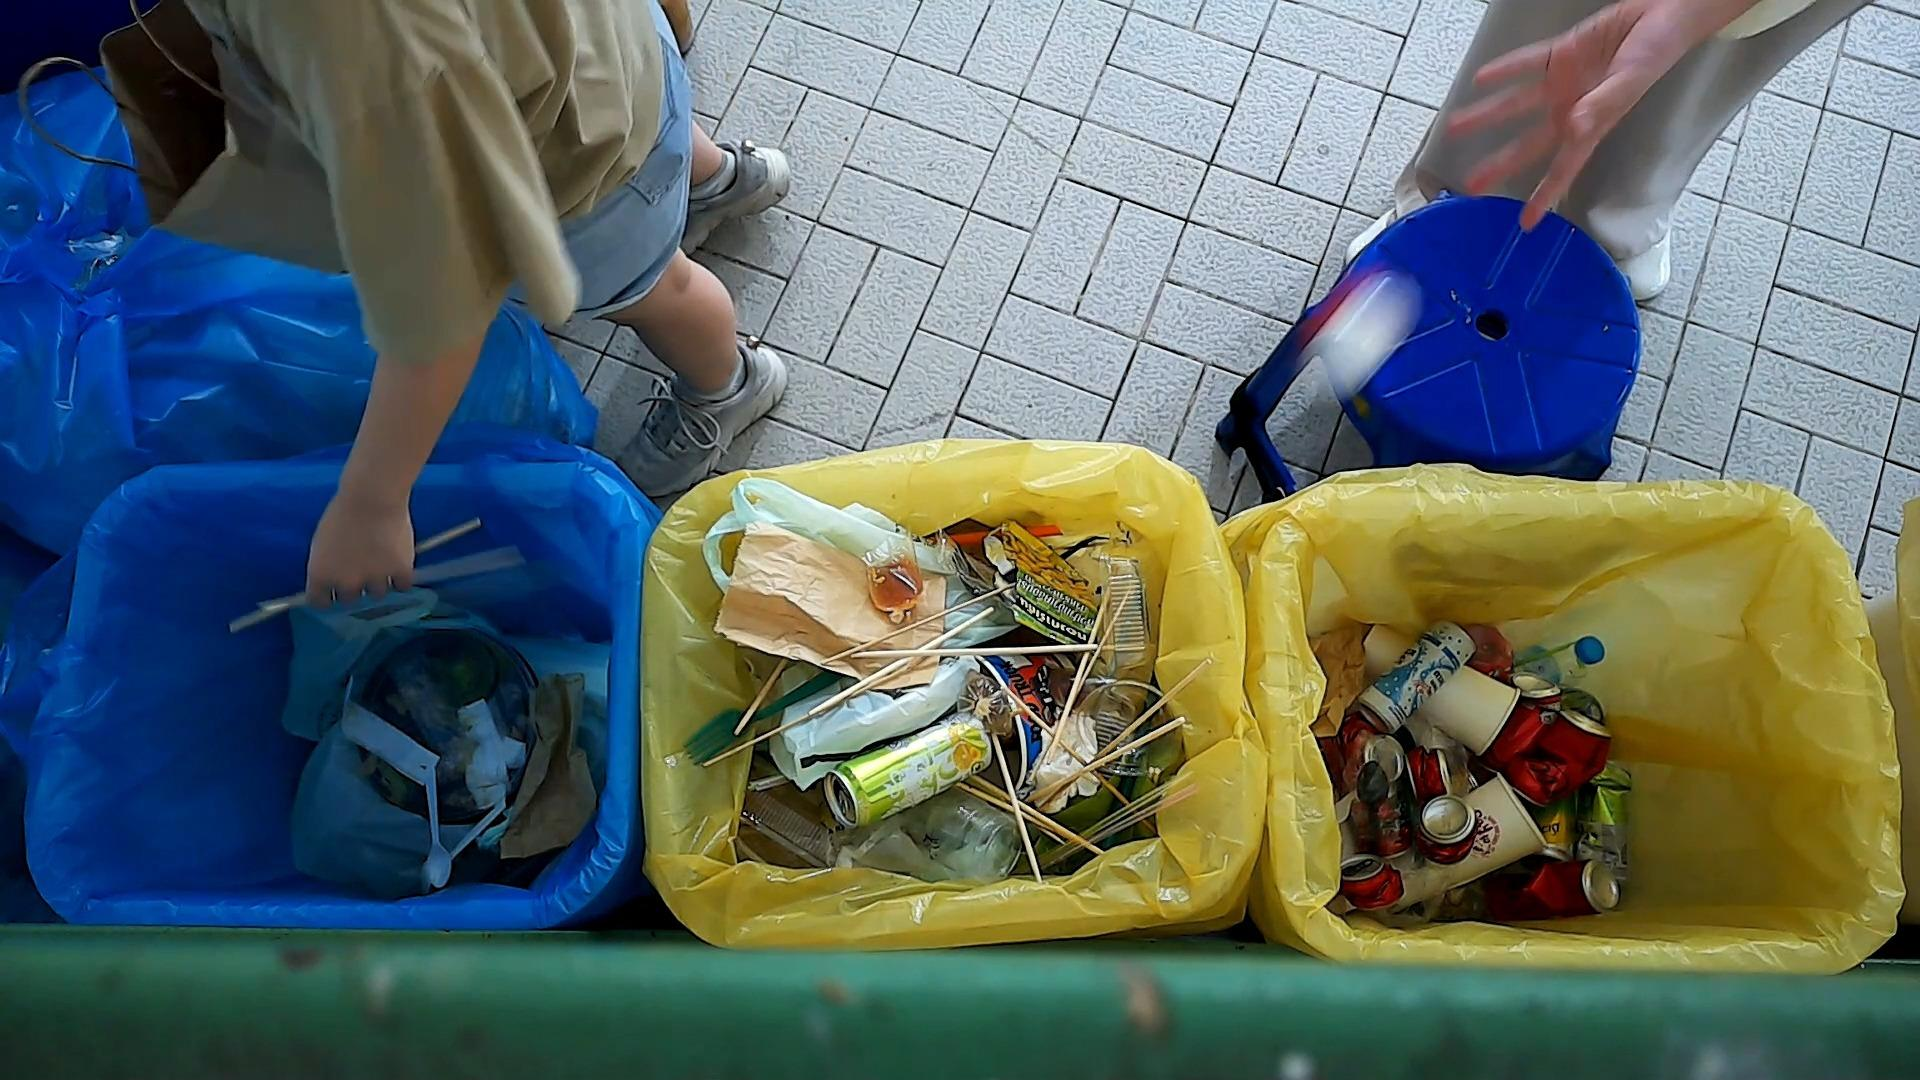can: (822, 704, 994, 836), (1358, 618, 1477, 732), (1506, 716, 1611, 811), (1481, 669, 1564, 770), (1578, 758, 1635, 886), (1523, 857, 1622, 918), (1327, 720, 1407, 789), (1423, 793, 1490, 869), (1337, 857, 1407, 918), (1400, 745, 1458, 803), (1527, 808, 1580, 866)
filled plastic bag: (291, 609, 543, 887)
food container: (737, 787, 843, 868), (1095, 551, 1155, 670)
paper bag: (711, 502, 969, 698), (498, 671, 596, 864), (1309, 622, 1367, 736)
plastic bag: (766, 638, 984, 786)
plastic cutlery: (684, 665, 844, 762), (418, 794, 514, 891), (1350, 769, 1398, 877), (418, 764, 456, 890)
snack packaging: (998, 514, 1104, 657)
sticks: (223, 516, 487, 637), (832, 576, 1015, 703), (700, 662, 907, 771), (799, 617, 996, 713), (1035, 703, 1184, 810), (1000, 687, 1131, 803), (1047, 567, 1114, 766), (957, 774, 1109, 855), (1104, 657, 1216, 753), (986, 728, 1044, 884), (841, 642, 1102, 670), (731, 651, 793, 737)
straw: (1044, 770, 1199, 868)
tissue paper: (439, 700, 524, 807), (1030, 716, 1101, 815)
zero waste cup: (1365, 624, 1523, 758), (1407, 770, 1545, 901)
